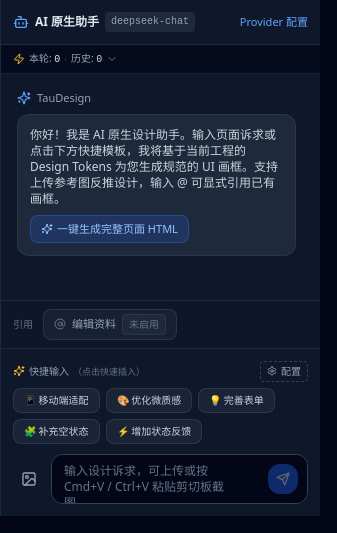
Test: Chat Reference Toggle: 画布点选与对话引用解耦 & 双态卡片交互 › CHK-F-02: 点击引用卡片可在「启用」与「未启用」之间自由切换
The image size is (337, 533).
Step 1. Click the button "编辑资料 未启用" → (110, 324), box [54,314,166,335]
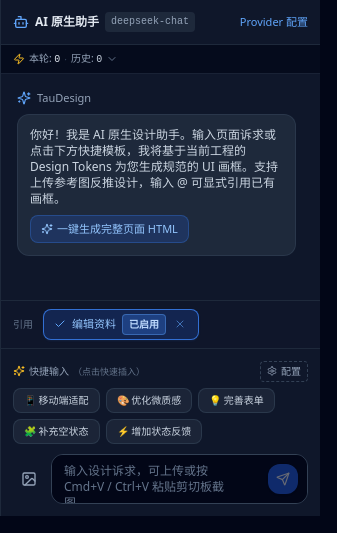
Expected: the text "已启用" is shown, [122,314,166,335]
Expected: the text "未启用" is gone
Step 2. Click the button "编辑资料 已启用" → (110, 324), box [54,314,166,335]
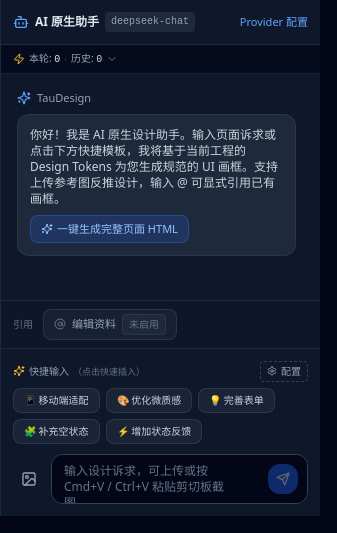
Expected: the text "未启用" is shown, [122,314,166,335]
Expected: the text "已启用" is gone
